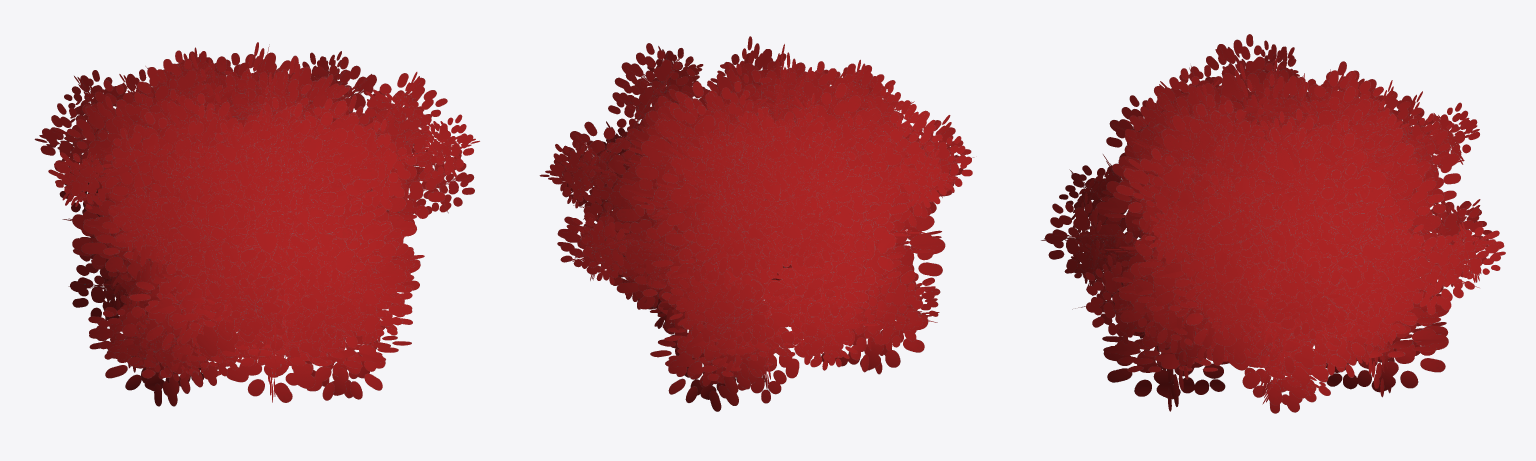
File: Bush_Common.glb
3 renders of one model, left to right at view 1: azimuth 30°, elevation 25°; view 2: azimuth 150°, elevation 25°; view 3: azimuth 270°, elevation 25°, orthographic. The views are drawn at different scales.
Visible parts, largest first — view 1: Bush_Common; view 2: Bush_Common; view 3: Bush_Common.
Part boxes in pixels (x1,y1,x2,y2): Bush_Common: (34, 42, 479, 406); Bush_Common: (539, 36, 974, 411); Bush_Common: (1041, 34, 1505, 413).
Size of the model in its own units: 1.91 by 1.58 by 1.97.
Materials: 1 (1 with a texture image).
